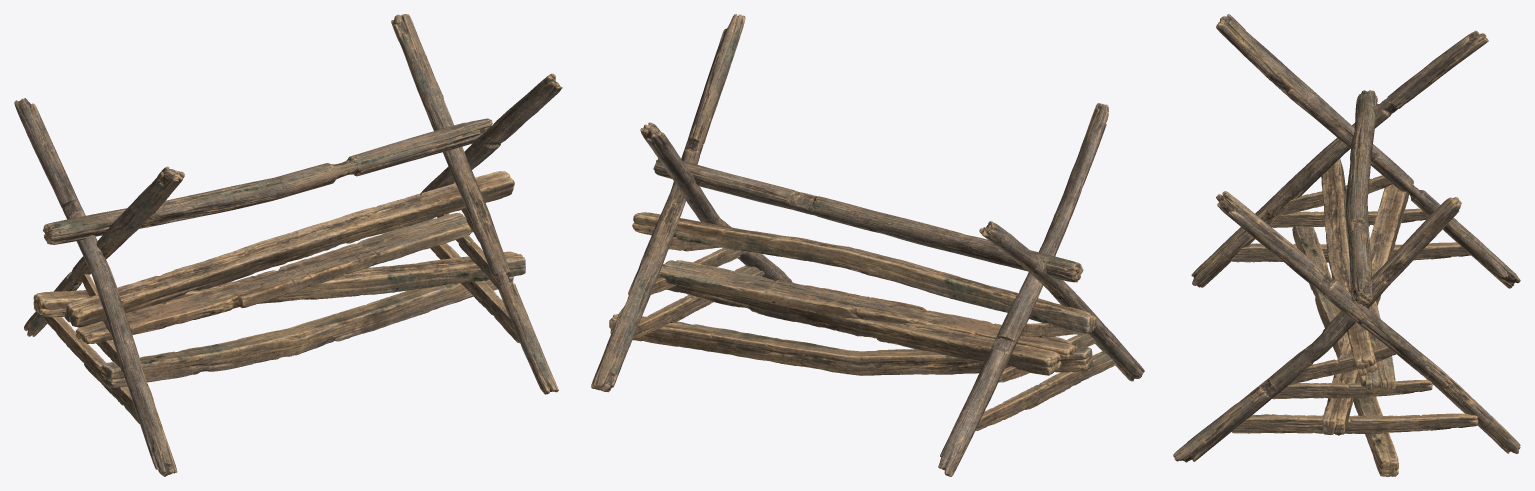
The model's file is ww2-field-fences-01a.glb.
3 renders of one model, left to right at view 1: azimuth 30°, elevation 25°; view 2: azimuth 150°, elevation 25°; view 3: azimuth 270°, elevation 25°, orthographic. The views are drawn at different scales.
Parts seen in each view (by area): view 1: SM_WW2_FieldFences01a_c1_LOD0; view 2: SM_WW2_FieldFences01a_c1_LOD0; view 3: SM_WW2_FieldFences01a_c1_LOD0.
Part boxes in pixels (left/top/right/bottom): SM_WW2_FieldFences01a_c1_LOD0: left=14, top=14, right=562, bottom=476; SM_WW2_FieldFences01a_c1_LOD0: left=591, top=14, right=1144, bottom=476; SM_WW2_FieldFences01a_c1_LOD0: left=1173, top=14, right=1520, bottom=476.
Size of the model in its own units: 3 by 1.8 by 2.
1 material, 1 textured.
